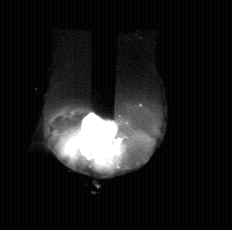arame: (91, 0, 116, 121)
poca: (42, 0, 167, 230)
